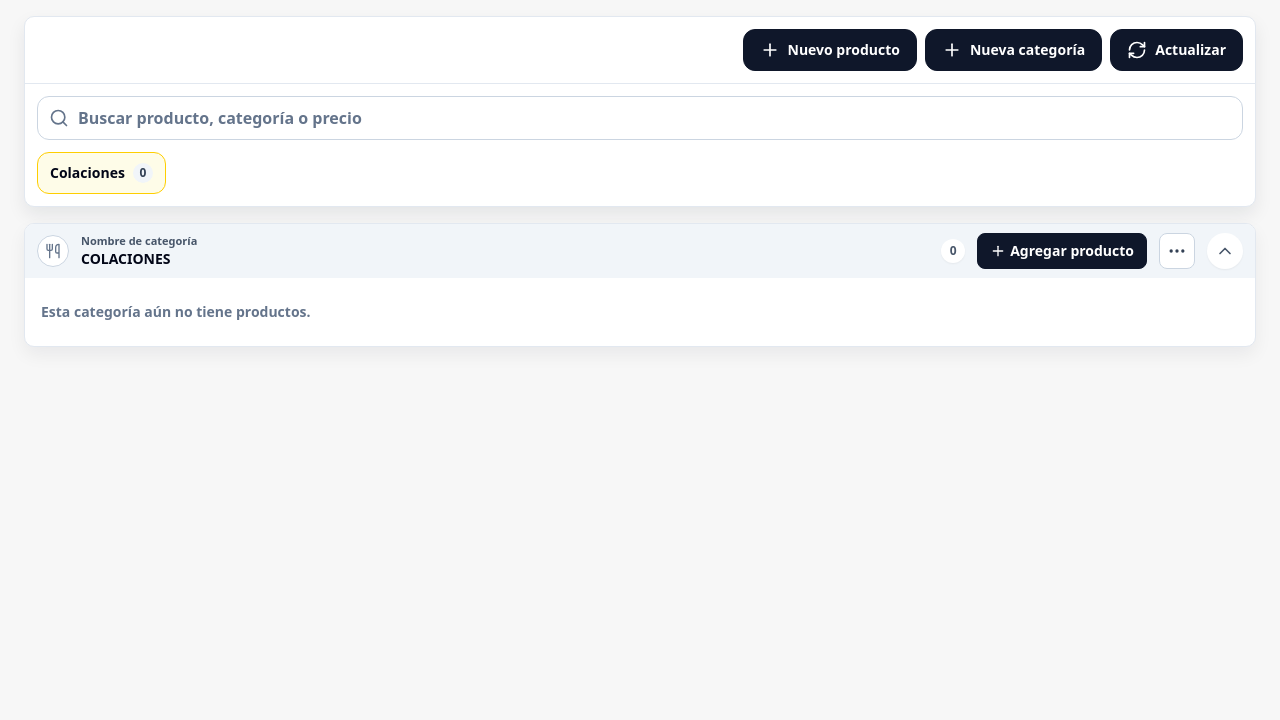
it: eliminación de categorías desde ProductosPage › elimina una categoría personalizada vacía, la retira y muestra confirmación
Click the button named "Opciones de categoría Colaciones". click: (1177, 251)
box: [1159,233,1195,269]
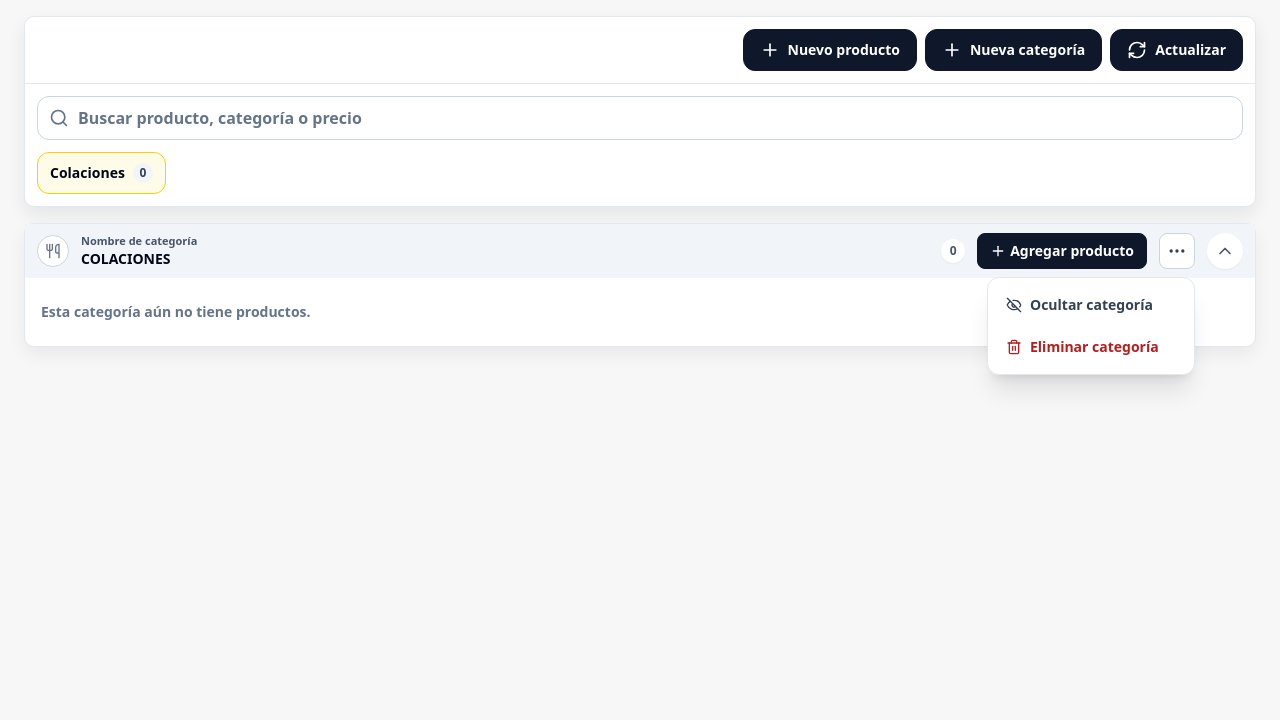
Click the button "Eliminar categoría". click: (1091, 347)
box: [994,326,1188,368]
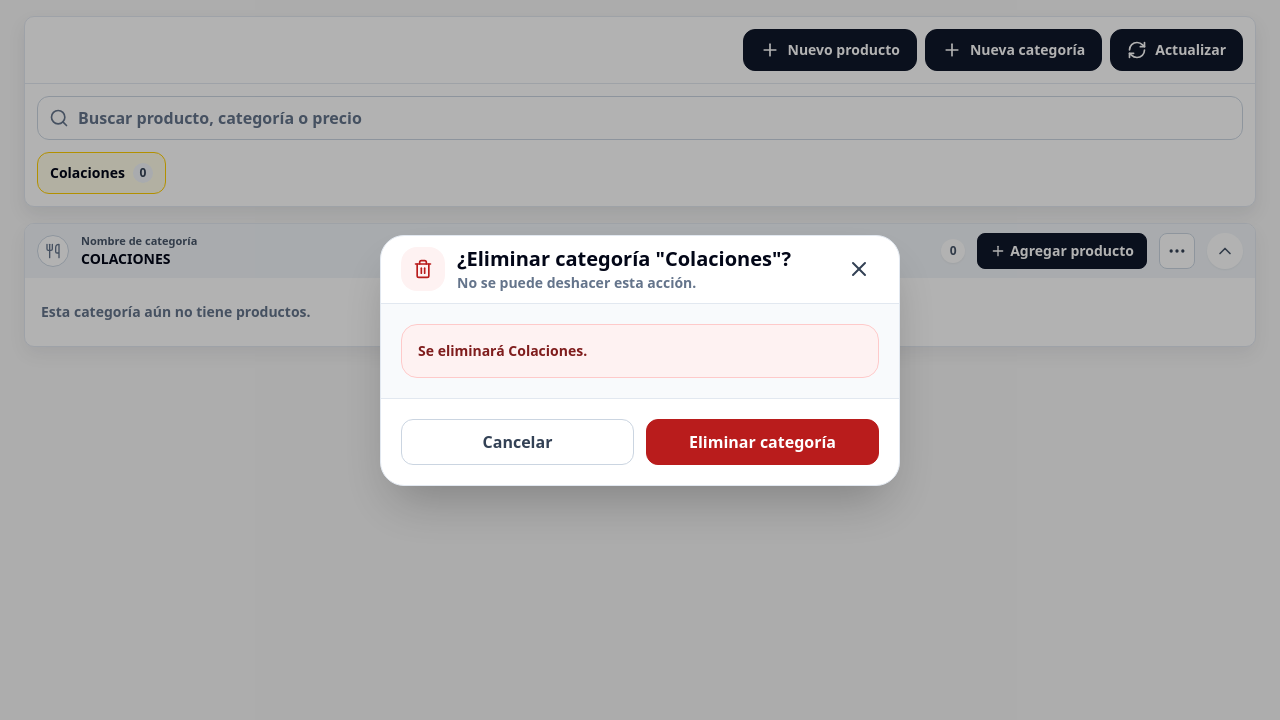
Now the heading "¿Eliminar categoría \"Colaciones\"?" is shown, box [457,245,791,273]
Click the button "Eliminar categoría". click: (762, 442)
box: [646,418,879,464]
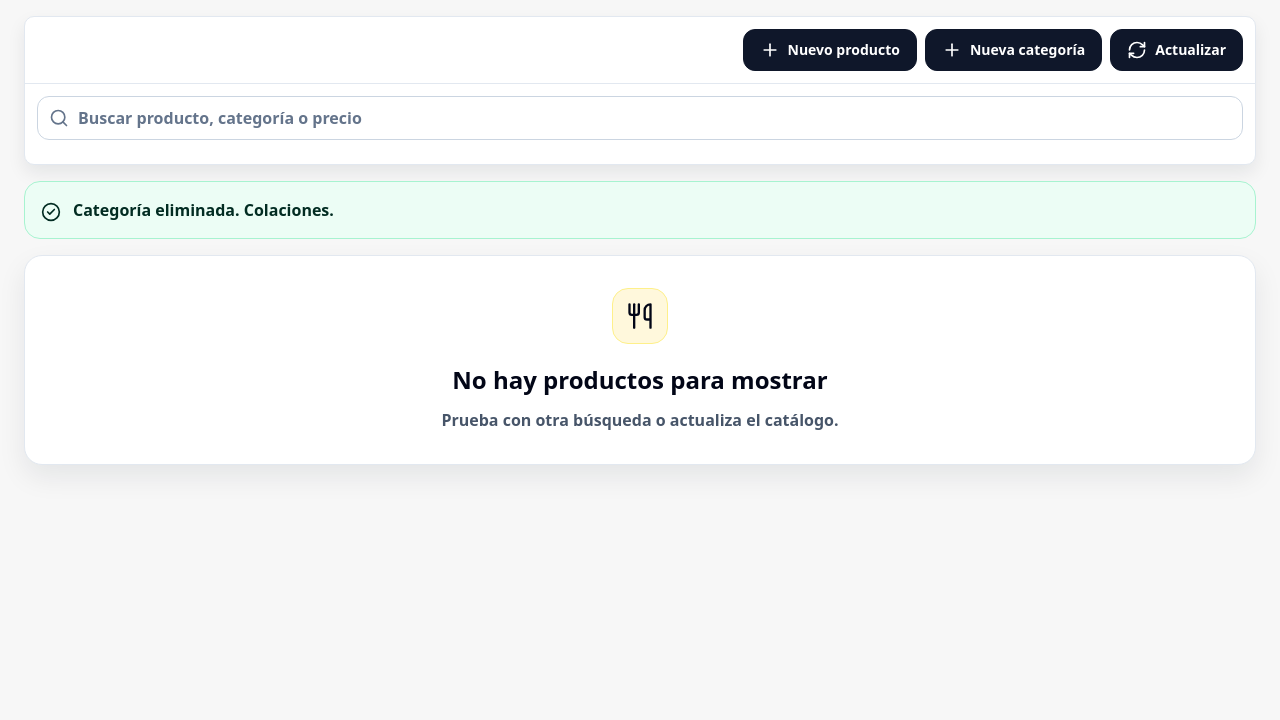
Now the text "Categoría eliminada. Colaciones." is shown, box [73,198,334,222]
Now the tab "Opciones de categoría Colaciones" is gone
